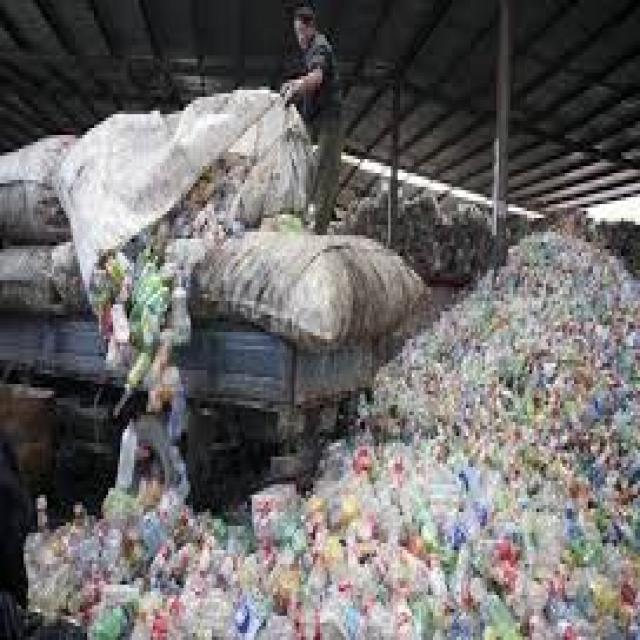heap: (378, 298, 634, 640)
